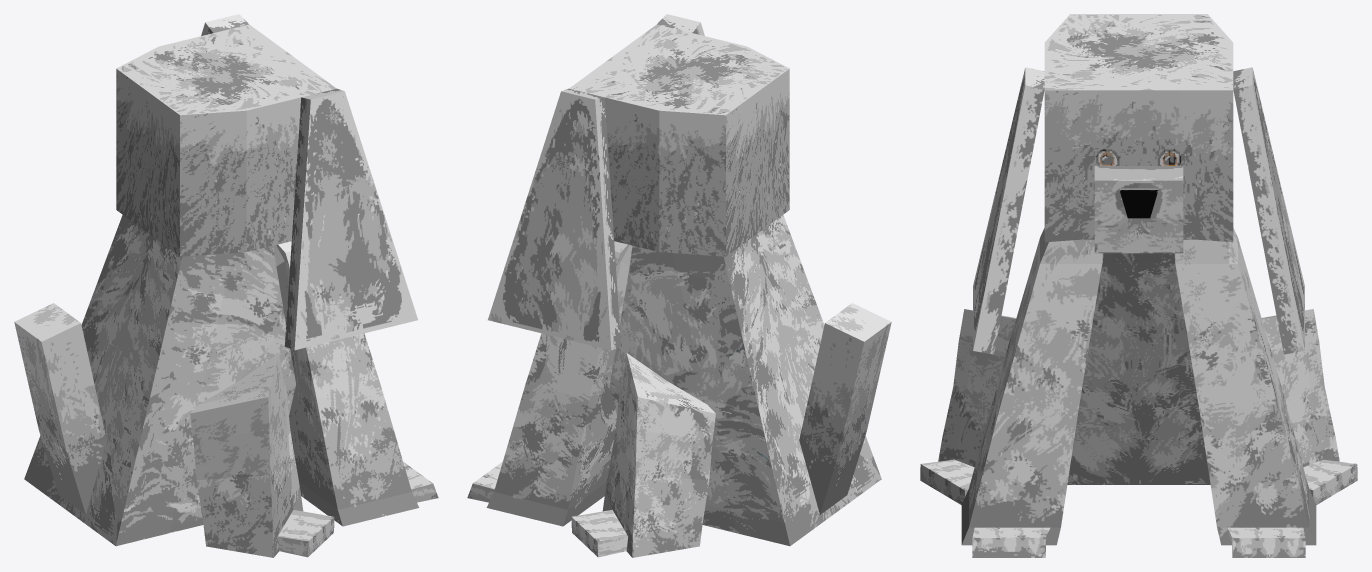
Rendered from Dog.fbx.
3 views of the same model, side by side, from view 1: azimuth 30°, elevation 25°; view 2: azimuth 150°, elevation 25°; view 3: azimuth 270°, elevation 25° (orthographic). The views are drawn at different scales.
Parts seen in each view (by area): view 1: Mesh; view 2: Mesh; view 3: Mesh.
Boxes of the visible parts, <box> form: Mesh: <box>14,14,438,557</box>; Mesh: <box>467,14,891,557</box>; Mesh: <box>920,14,1357,557</box>.
Size of the model in its own units: 8.24 by 9.72 by 8.7.
